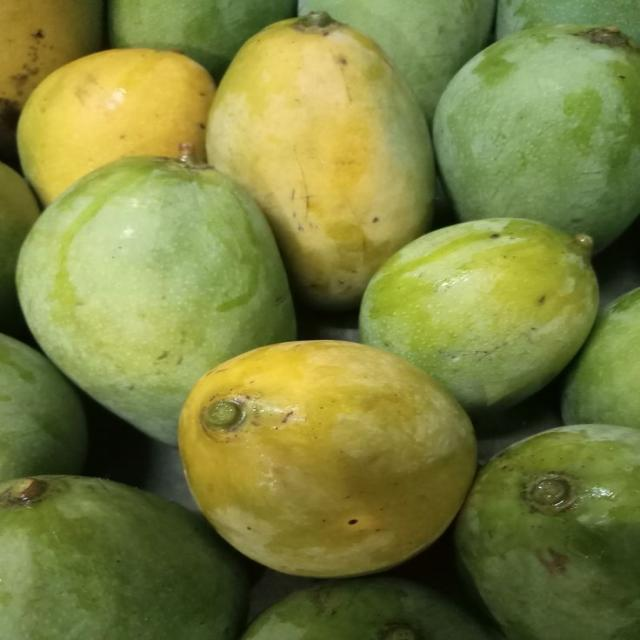mango: (18, 157, 295, 442), (180, 340, 475, 577), (207, 14, 433, 309), (434, 25, 639, 251), (360, 219, 598, 412), (0, 475, 246, 639), (455, 425, 639, 639), (18, 49, 214, 204), (298, 0, 495, 121), (0, 0, 104, 160), (242, 576, 493, 639), (108, 0, 295, 81), (0, 334, 86, 481), (562, 289, 639, 427), (0, 163, 39, 333), (496, 0, 639, 40)
